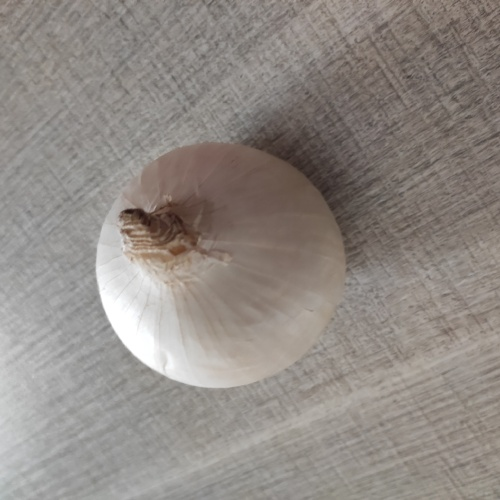cipolla: (89, 135, 363, 389)
